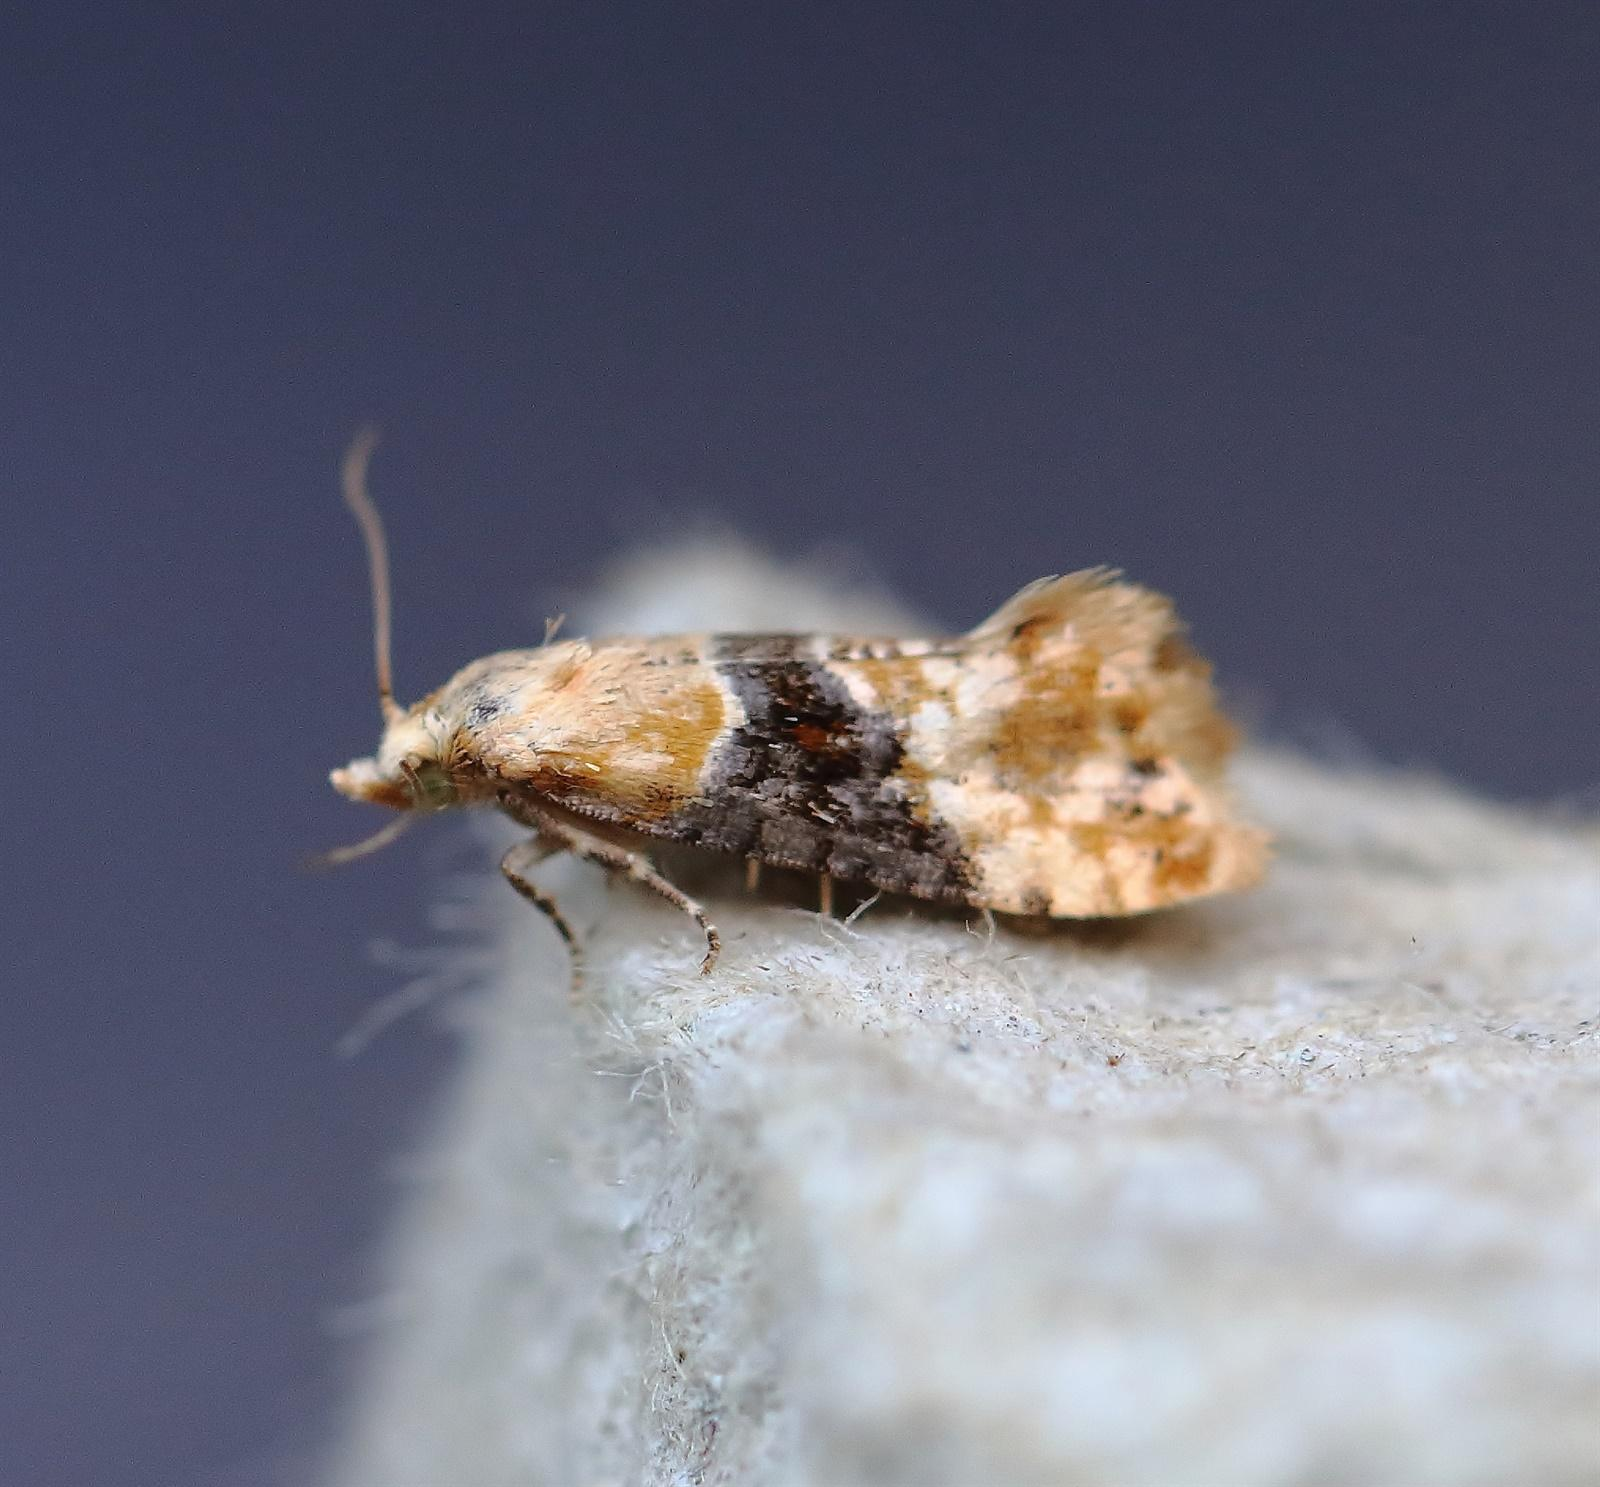Eupoecilia Ambiguella: (313, 416, 1279, 1001)
